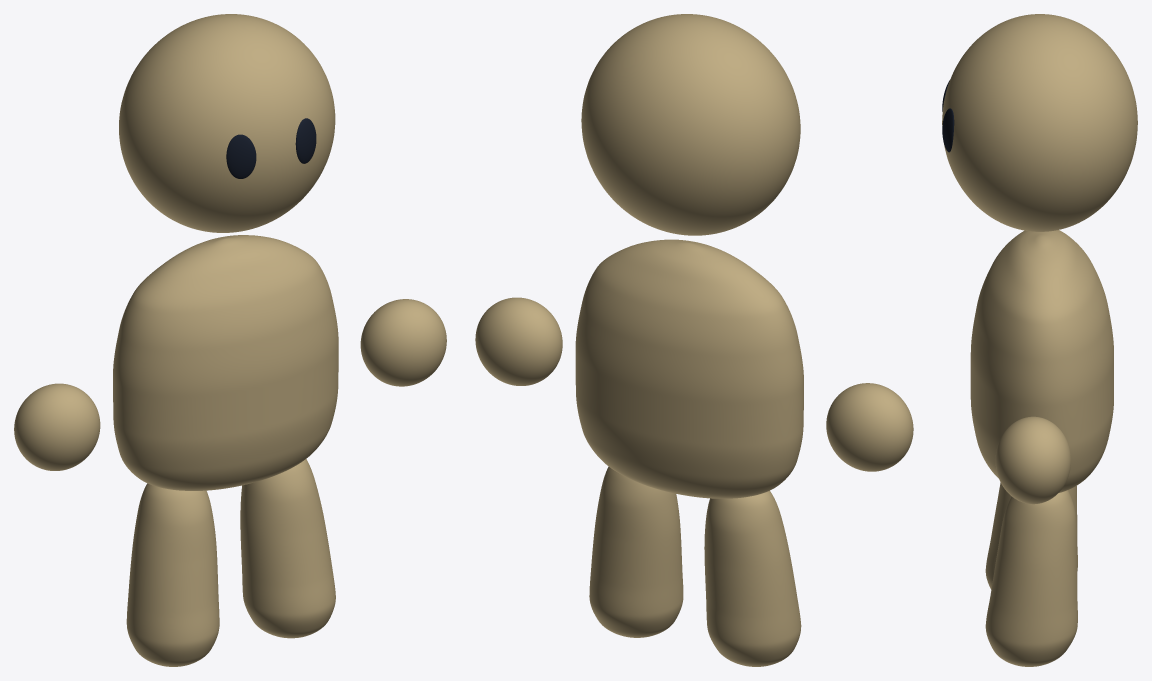
Rendered from Masculine-skin1.glb.
3 views of the same model, side by side, from view 1: azimuth 30°, elevation 25°; view 2: azimuth 150°, elevation 25°; view 3: azimuth 270°, elevation 25° (orthographic). The views are drawn at different scales.
Parts seen in each view (by area): view 1: Rounded torso, Round head, Left leg blob, Right leg blob, Right round hand, Left round hand, Left optional eye, Right optional eye; view 2: Rounded torso, Round head, Left leg blob, Right leg blob, Left round hand, Right round hand; view 3: Round head, Rounded torso, Right leg blob, Right round hand, Left leg blob, Right optional eye.
Part boxes in pixels (bbox=[...]): Rounded torso: bbox=[113, 235, 338, 490]; Round head: bbox=[119, 14, 335, 232]; Left leg blob: bbox=[126, 483, 219, 666]; Right leg blob: bbox=[240, 459, 335, 638]; Right round hand: bbox=[360, 299, 446, 386]; Left round hand: bbox=[14, 383, 100, 470]; Left optional eye: bbox=[226, 134, 256, 178]; Right optional eye: bbox=[295, 118, 316, 163]; Rounded torso: bbox=[575, 239, 803, 498]; Round head: bbox=[581, 14, 800, 235]; Left leg blob: bbox=[704, 490, 801, 666]; Right leg blob: bbox=[589, 466, 683, 637]; Left round hand: bbox=[826, 383, 913, 471]; Right round hand: bbox=[475, 297, 562, 385]; Round head: bbox=[942, 14, 1137, 231]; Rounded torso: bbox=[970, 230, 1113, 492]; Right leg blob: bbox=[985, 490, 1077, 666]; Right round hand: bbox=[995, 416, 1070, 504]; Left leg blob: bbox=[985, 482, 1077, 589]; Right optional eye: bbox=[942, 108, 954, 152].
Size of the model in its own units: 1.94 by 2.72 by 0.792.
